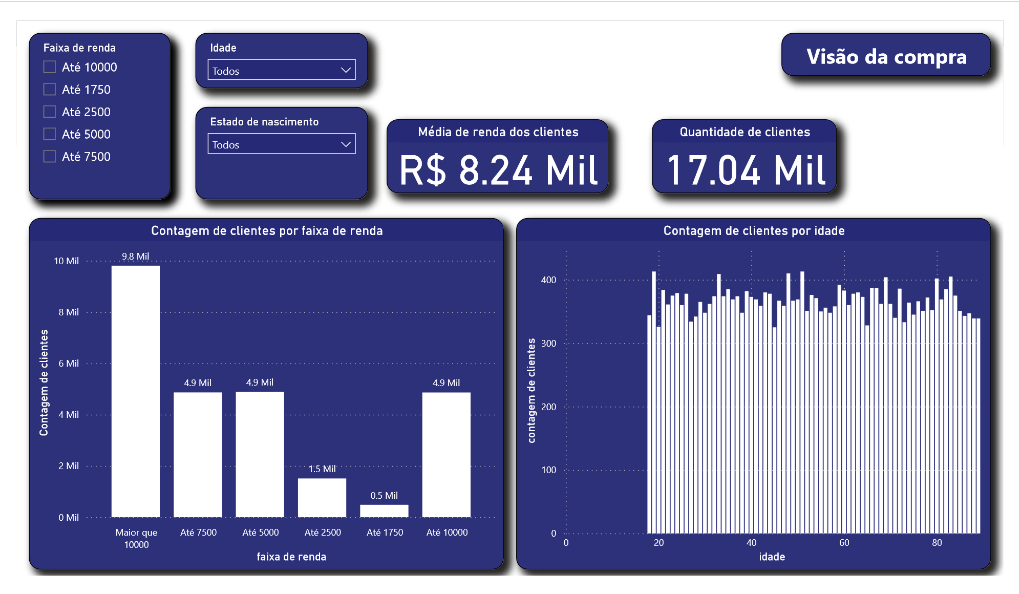

This screenshot's page, from the dashboard's own definition file:
{"tool":"powerbi","page":{"name":"Visão da Compra","canvas":[1280,720],"ordinal":1},"visuals":[{"type":"slicer","fields":{"Values":["Base cliente.idade"]},"box":[232,16,224,72],"z":0},{"type":"slicer","fields":{"Values":["Base cliente.faixa_de_renda"]},"box":[16,16,184,216],"z":1000},{"type":"slicer","fields":{"Values":["Base cliente.uf_nascimento"]},"box":[232,112,224,120],"z":2000},{"type":"card","title":"Quantidade de clientes","fields":{"Values":["Count(Base cliente.cliente_Log)"]},"box":[824,128,240,96],"z":3000},{"type":"card","title":"Média de renda dos clientes","fields":{"Values":["Avg(Base cliente.renda)"]},"box":[480,128,288,96],"z":4000},{"type":"clusteredColumnChart","title":"Contagem de clientes por idade","fields":{"Category":["Base cliente.idade"],"Y":["CountNonNull(Base cliente.cliente_Log)"]},"box":[648,256,616,456],"z":5000},{"type":"clusteredColumnChart","title":"Contagem de clientes por faixa de renda","fields":{"Category":["Base cliente.faixa_de_renda"],"Y":["CountNonNull(Base cliente.cliente_Log)"]},"box":[16,256,616,456],"z":6000},{"type":"textbox","box":[992,16,272,56],"z":7000}]}

Visuals, with their boxes in screenshot pixels (x1, y1, x2, y2):
slicer - Base cliente.idade: <box>195,26,371,82</box>
slicer - Base cliente.faixa_de_renda: <box>26,26,170,195</box>
slicer - Base cliente.uf_nascimento: <box>195,101,371,195</box>
"Quantidade de clientes" card: <box>660,114,849,189</box>
"Média de renda dos clientes" card: <box>390,114,616,189</box>
"Contagem de clientes por idade" clusteredColumnChart: <box>522,214,1006,572</box>
"Contagem de clientes por faixa de renda" clusteredColumnChart: <box>26,214,509,572</box>
textbox: <box>792,26,1006,70</box>
